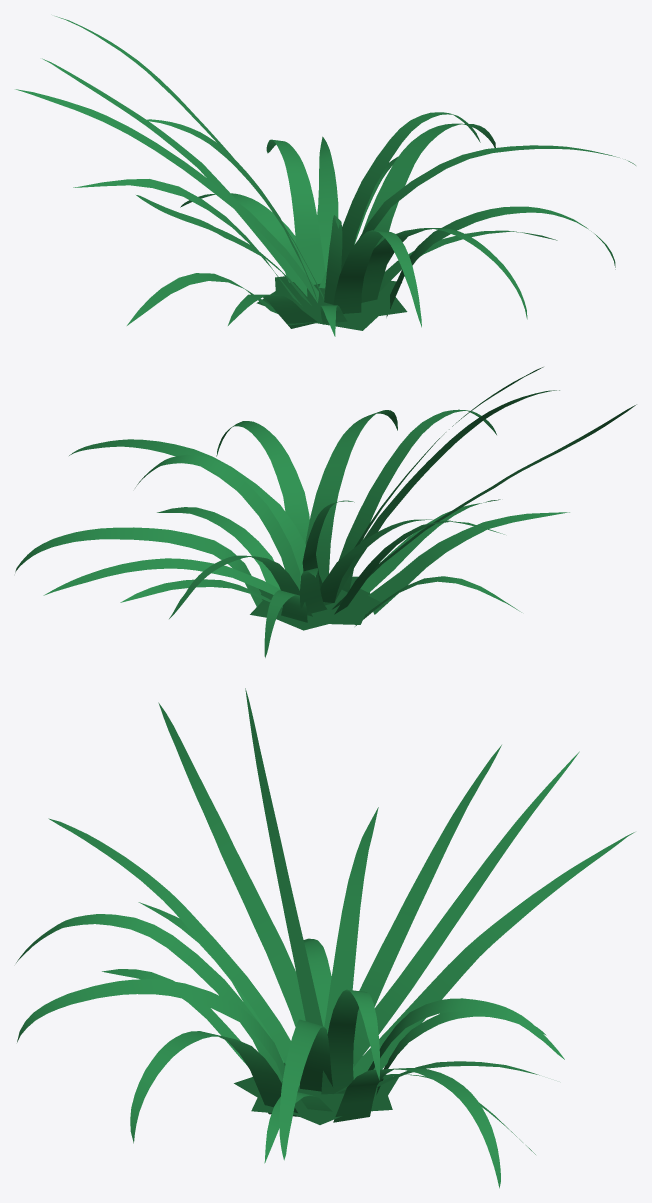
The model's file is plant_bush_D.fbx.
The picture shows the model from 3 angles, top to bottom: view 1: azimuth 30°, elevation 25°; view 2: azimuth 150°, elevation 25°; view 3: azimuth 270°, elevation 25°; orthographic projection. The views are drawn at different scales.
Parts seen in each view (by area): view 1: plant_bush_D_leaf_T, plant_bush_D_leaf_R, plant_bush_D_leaf_C, plant_bush_D_base, plant_bush_D_leaf_R5, plant_bush_D_leaf_R1, plant_bush_D_leaf_R2, plant_bush_D_leaf_F, plant_bush_D_leaf_small_G5, plant_bush_D_leaf_R3, plant_bush_D_leaf_N, plant_bush_D_leaf_small_G4 (+9 smaller); view 2: plant_bush_D_leaf_R2, plant_bush_D_leaf_R1, plant_bush_D_leaf_R5, plant_bush_D_leaf_R3, plant_bush_D_leaf_R, plant_bush_D_leaf_N, plant_bush_D_leaf_small_G1, plant_bush_D_base, plant_bush_D_leaf_S1, plant_bush_D_leaf_H, plant_bush_D_leaf_small_G3, plant_bush_D_leaf_small_G2 (+10 smaller); view 3: plant_bush_D_leaf_B, plant_bush_D_leaf_H1, plant_bush_D_leaf_F, plant_bush_D_leaf_D, plant_bush_D_leaf_R2, plant_bush_D_leaf_C, plant_bush_D_leaf_H, plant_bush_D_leaf_N, plant_bush_D_leaf_R5, plant_bush_D_leaf_R, plant_bush_D_leaf_small_G4, plant_bush_D_leaf_R1 (+7 smaller).
Part boxes in pixels (x1,y1,x2,y2): plant_bush_D_leaf_T: [266, 139, 325, 284]; plant_bush_D_leaf_R: [333, 230, 421, 327]; plant_bush_D_leaf_C: [15, 89, 318, 302]; plant_bush_D_base: [256, 276, 407, 330]; plant_bush_D_leaf_R5: [341, 112, 480, 270]; plant_bush_D_leaf_R1: [362, 123, 495, 247]; plant_bush_D_leaf_R2: [361, 228, 527, 319]; plant_bush_D_leaf_F: [42, 58, 307, 296]; plant_bush_D_leaf_small_G5: [317, 136, 338, 271]; plant_bush_D_leaf_R3: [386, 206, 615, 317]; plant_bush_D_leaf_N: [359, 145, 635, 238]; plant_bush_D_leaf_small_G4: [73, 179, 302, 306]; plant_bush_D_leaf_R2: [305, 410, 397, 582]; plant_bush_D_leaf_R1: [15, 527, 262, 607]; plant_bush_D_leaf_R5: [135, 454, 300, 590]; plant_bush_D_leaf_R3: [216, 421, 309, 543]; plant_bush_D_leaf_R: [338, 409, 496, 592]; plant_bush_D_leaf_N: [69, 439, 305, 583]; plant_bush_D_leaf_small_G1: [368, 512, 569, 614]; plant_bush_D_base: [250, 576, 384, 630]; plant_bush_D_leaf_S1: [43, 558, 280, 595]; plant_bush_D_leaf_H: [323, 390, 559, 605]; plant_bush_D_leaf_small_G3: [157, 507, 279, 588]; plant_bush_D_leaf_small_G2: [360, 499, 500, 592]; plant_bush_D_leaf_B: [158, 702, 305, 1026]; plant_bush_D_leaf_H1: [353, 751, 579, 1067]; plant_bush_D_leaf_F: [353, 832, 634, 1079]; plant_bush_D_leaf_D: [48, 818, 299, 1085]; plant_bush_D_leaf_R2: [17, 979, 284, 1078]; plant_bush_D_leaf_C: [355, 745, 501, 1032]; plant_bush_D_leaf_H: [245, 688, 322, 1026]; plant_bush_D_leaf_N: [279, 1019, 332, 1160]; plant_bush_D_leaf_R5: [321, 989, 379, 1094]; plant_bush_D_leaf_R: [16, 914, 282, 1082]; plant_bush_D_leaf_small_G4: [324, 807, 378, 1033]; plant_bush_D_leaf_R1: [333, 1068, 500, 1188].
Bounding box in the file's own units: 112 × 51.4 × 99.88.
